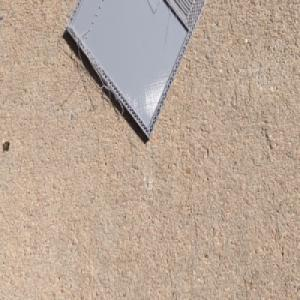PlasticPart: (64, 0, 209, 142)
